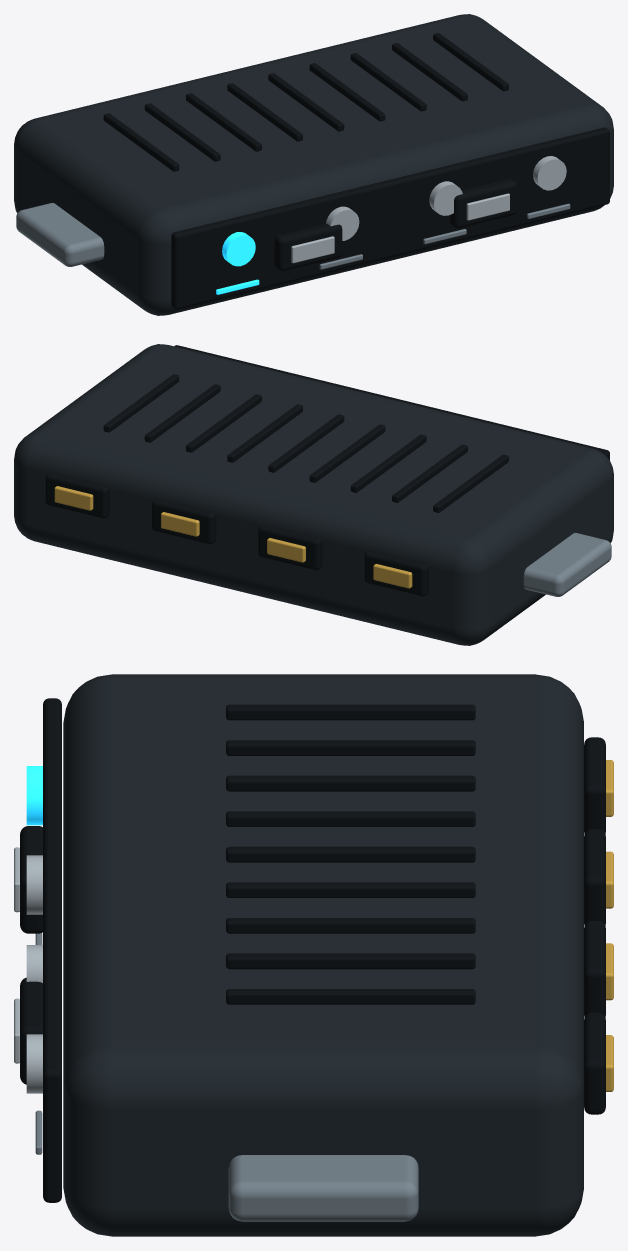
Rendered from kvm-switch.glb.
The picture shows the model from 3 angles, top to bottom: view 1: azimuth 30°, elevation 25°; view 2: azimuth 150°, elevation 25°; view 3: azimuth 270°, elevation 25°; orthographic projection. The views are drawn at different scales.
Parts seen in each view (by area): view 1: Metal KVM enclosure, Front control panel, Cooling vent (×9), Rack ear, Front USB port (×2), Professional KVM switch, Channel 1, Channel 4, Channel 3, Channel 2; view 2: Metal KVM enclosure, Cooling vent (×9), Rear HDMI port (×4), Rack ear, Professional KVM switch, Front control panel; view 3: Metal KVM enclosure, Cooling vent (×9), Rack ear, Front control panel, Rear HDMI port (×4), Front USB port (×2), Professional KVM switch, Channel 2, Channel 4, Channel 1.
Part boxes in pixels (bbox=[...]): Metal KVM enclosure: bbox=[14, 14, 613, 315]; Front control panel: bbox=[171, 127, 609, 309]; Cooling vent (×9): bbox=[103, 33, 508, 171]; Rack ear: bbox=[16, 203, 104, 266]; Front USB port (×2): bbox=[274, 179, 517, 271]; Professional KVM switch: bbox=[216, 193, 570, 294]; Channel 1: bbox=[222, 232, 255, 266]; Channel 4: bbox=[533, 156, 566, 190]; Channel 3: bbox=[429, 181, 462, 215]; Channel 2: bbox=[326, 206, 359, 240]; Metal KVM enclosure: bbox=[14, 344, 613, 645]; Cooling vent (×9): bbox=[103, 374, 508, 512]; Rear HDMI port (×4): bbox=[45, 472, 428, 596]; Rack ear: bbox=[523, 533, 611, 596]; Professional KVM switch: bbox=[54, 486, 412, 588]; Front control panel: bbox=[174, 345, 609, 460]; Metal KVM enclosure: bbox=[63, 674, 583, 1236]; Cooling vent (×9): bbox=[226, 704, 475, 1004]; Rack ear: bbox=[228, 1155, 418, 1221]; Front control panel: bbox=[43, 698, 61, 1202]; Rear HDMI port (×4): bbox=[584, 737, 605, 1114]; Front USB port (×2): bbox=[20, 826, 42, 1084]; Professional KVM switch: bbox=[14, 760, 613, 1154]; Channel 2: bbox=[26, 855, 42, 914]; Channel 4: bbox=[26, 1034, 42, 1093]; Channel 1: bbox=[26, 766, 42, 825].
Bounding box in the file's own units: 2.06 × 0.4075 × 1.11.
